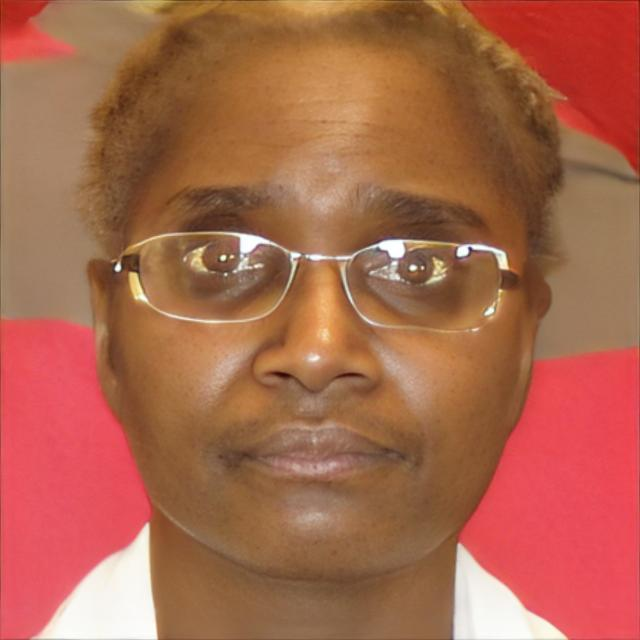fear: (122, 39, 518, 588)
